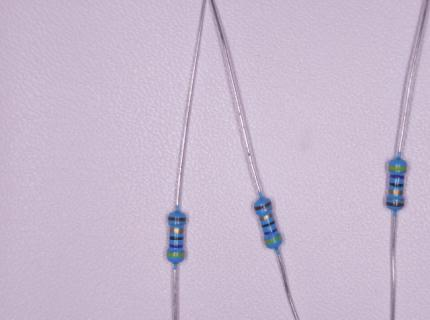Gold band: (260, 213, 273, 221), (389, 190, 403, 195), (170, 229, 183, 233)
Violet band: (264, 228, 277, 235), (169, 244, 183, 248), (390, 175, 404, 179)
Yellow band: (265, 235, 282, 245), (389, 166, 407, 171), (167, 253, 184, 257)
